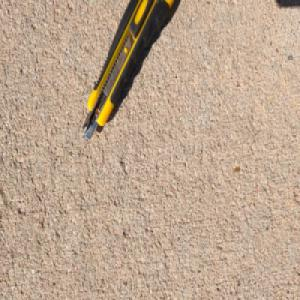Cutter: (81, 0, 179, 140)
